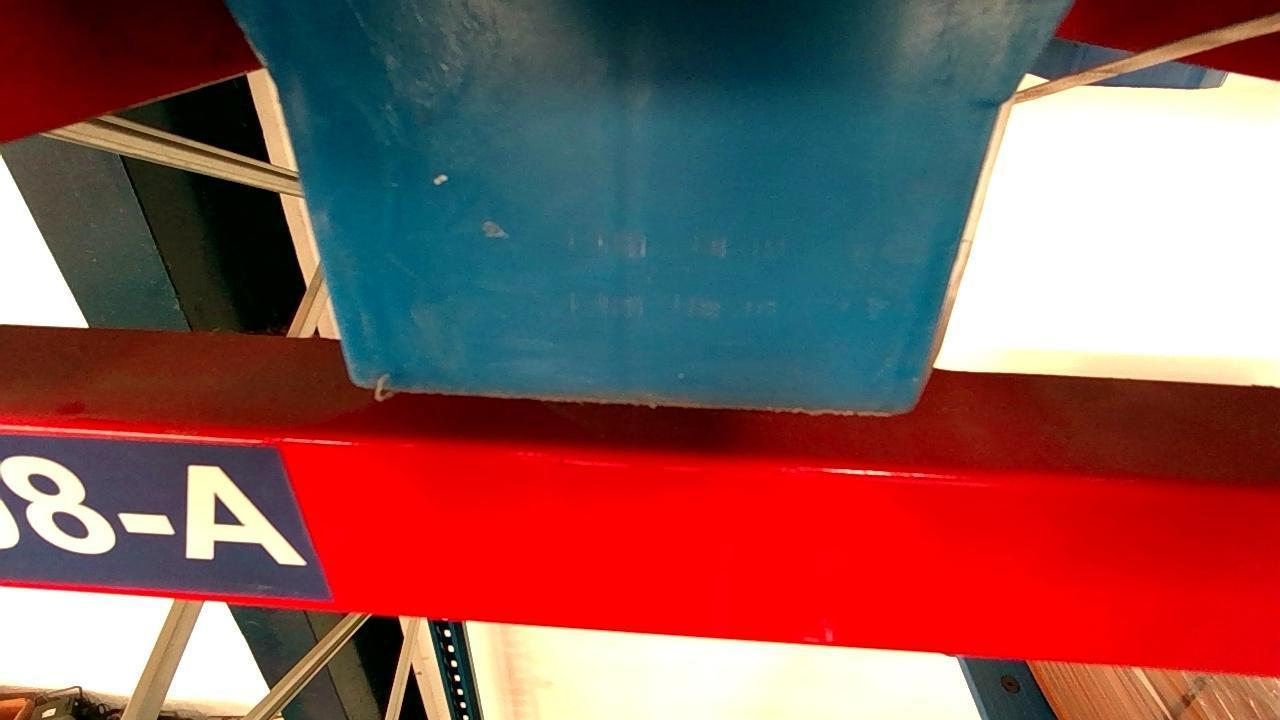h_rack: (0, 428, 1278, 676)
